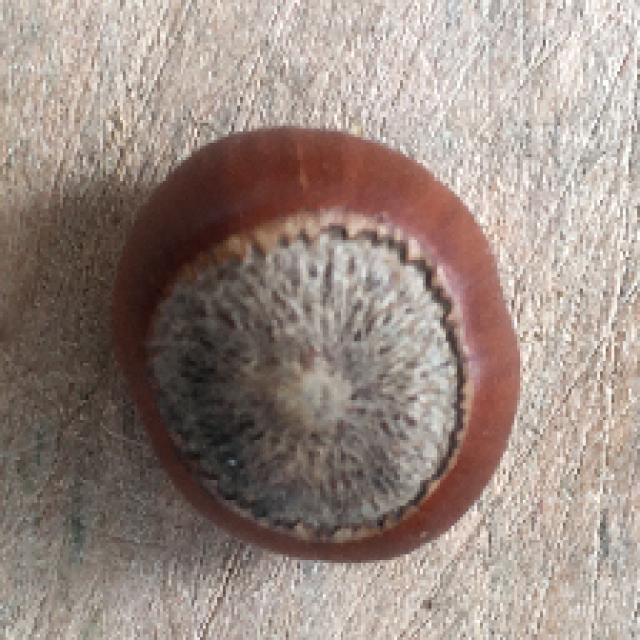damagedHazelnut: (108, 123, 529, 573)
